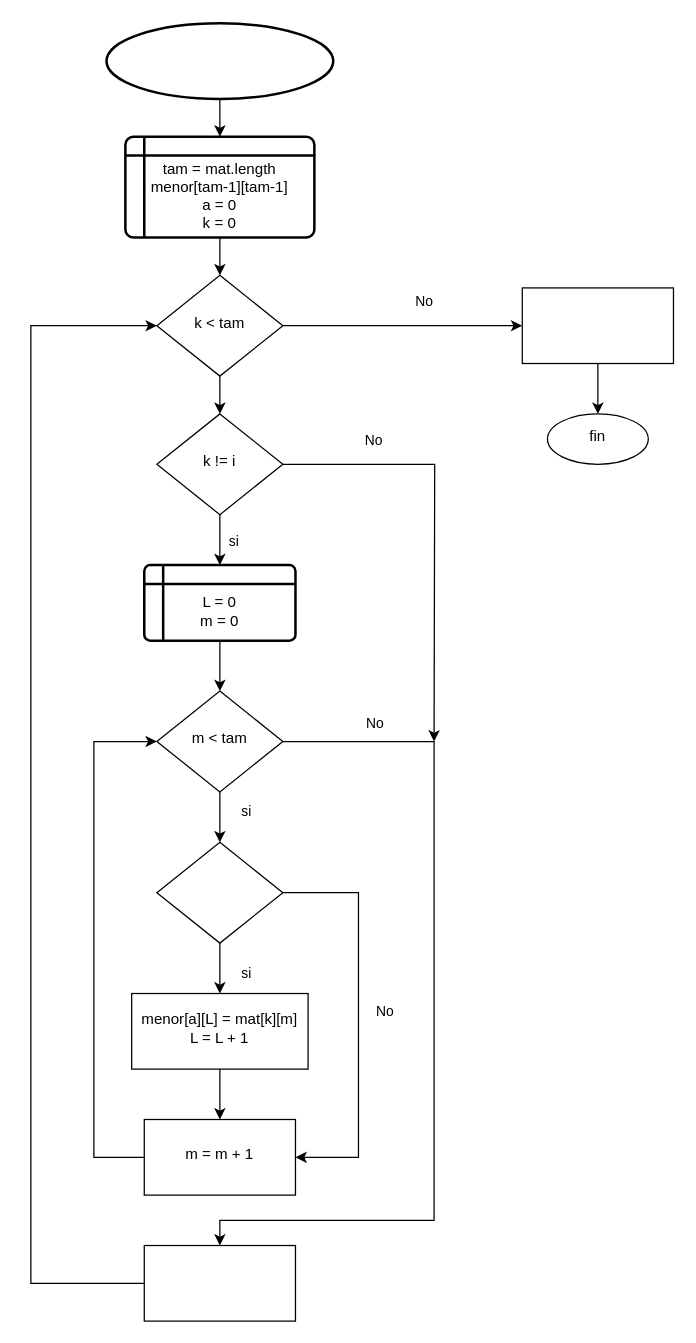
This 696x1343 diagram has some shape labels left out. The box of each missing label's shape, as (x1, y1, x2, y2) in pixels:
a = a + 1 k = k + 1: (143, 1244, 295, 1321)
getMenor (double mat[][], int i, int j): (105, 21, 334, 100)
m != j: (156, 841, 283, 943)
retorna menor[][]: (521, 287, 673, 364)
